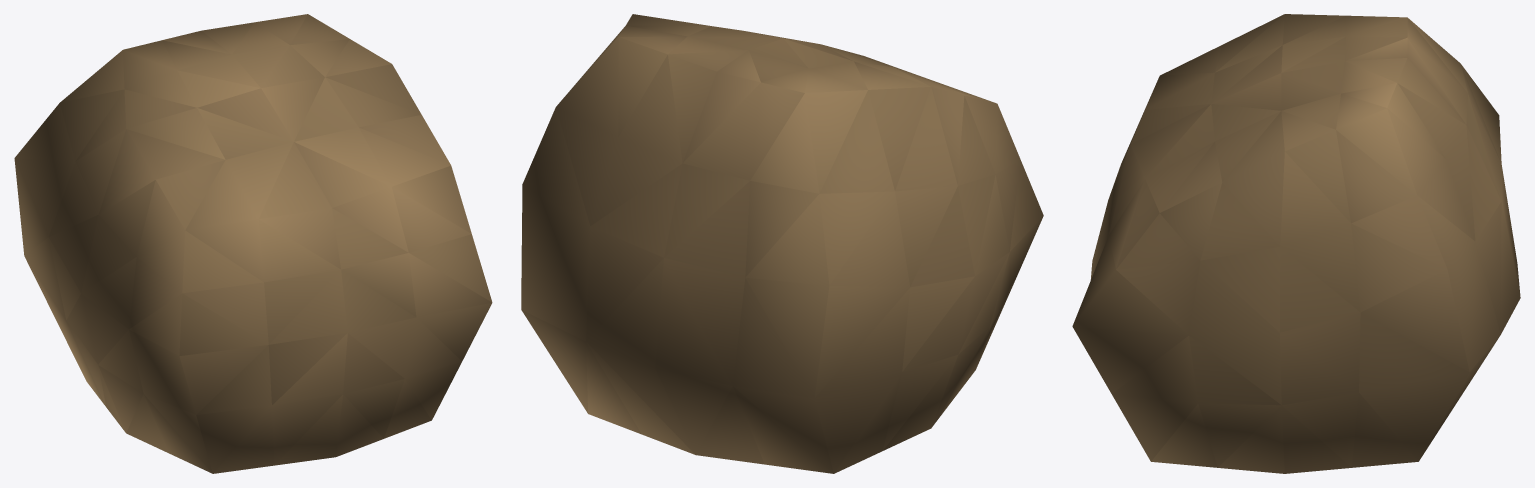
Rendered from SandChunk.006.glb.
3 renders of one model, left to right at view 1: azimuth 30°, elevation 25°; view 2: azimuth 150°, elevation 25°; view 3: azimuth 270°, elevation 25°, orthographic. The views are drawn at different scales.
Parts seen in each view (by area): view 1: SandChunk.006; view 2: SandChunk.006; view 3: SandChunk.006.
Part boxes in pixels (x1,y1,x2,y2): SandChunk.006: [14, 14, 492, 473]; SandChunk.006: [521, 14, 1043, 473]; SandChunk.006: [1072, 14, 1520, 473].
Size of the model in its own units: 5.69 by 5.86 by 6.13.
